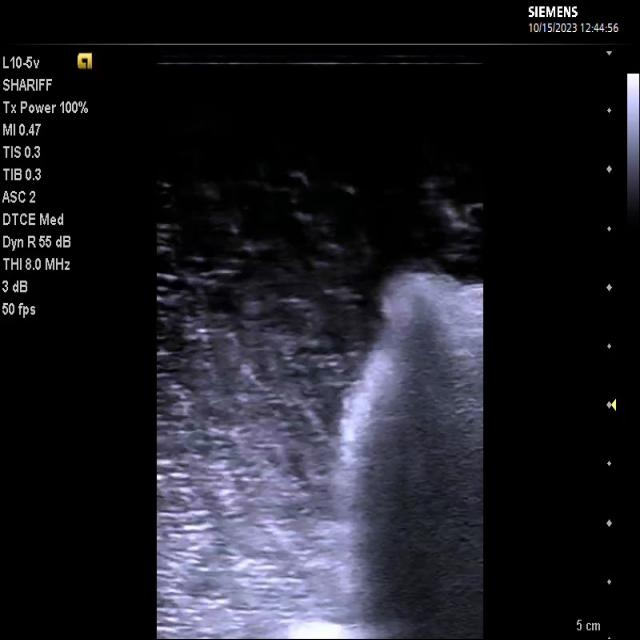tissue: (290, 271, 483, 640)
